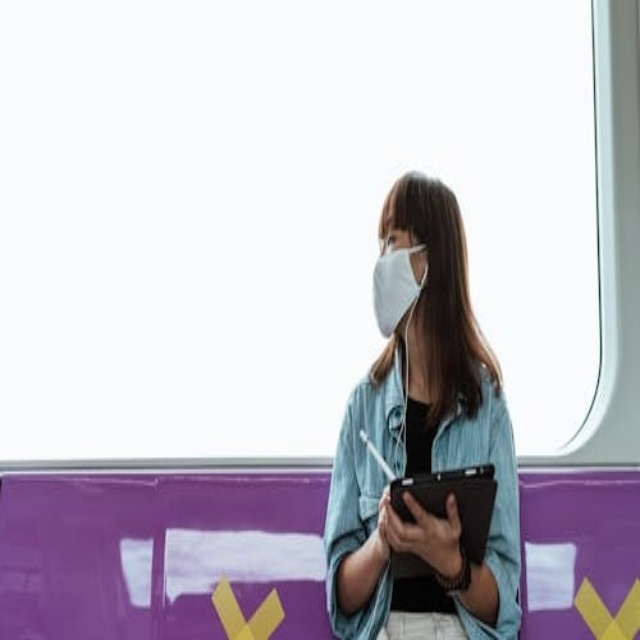Mascara: (371, 242, 428, 338)
Sin_gafas: (387, 234, 397, 249)
Sin_guantes: (387, 485, 460, 569)
